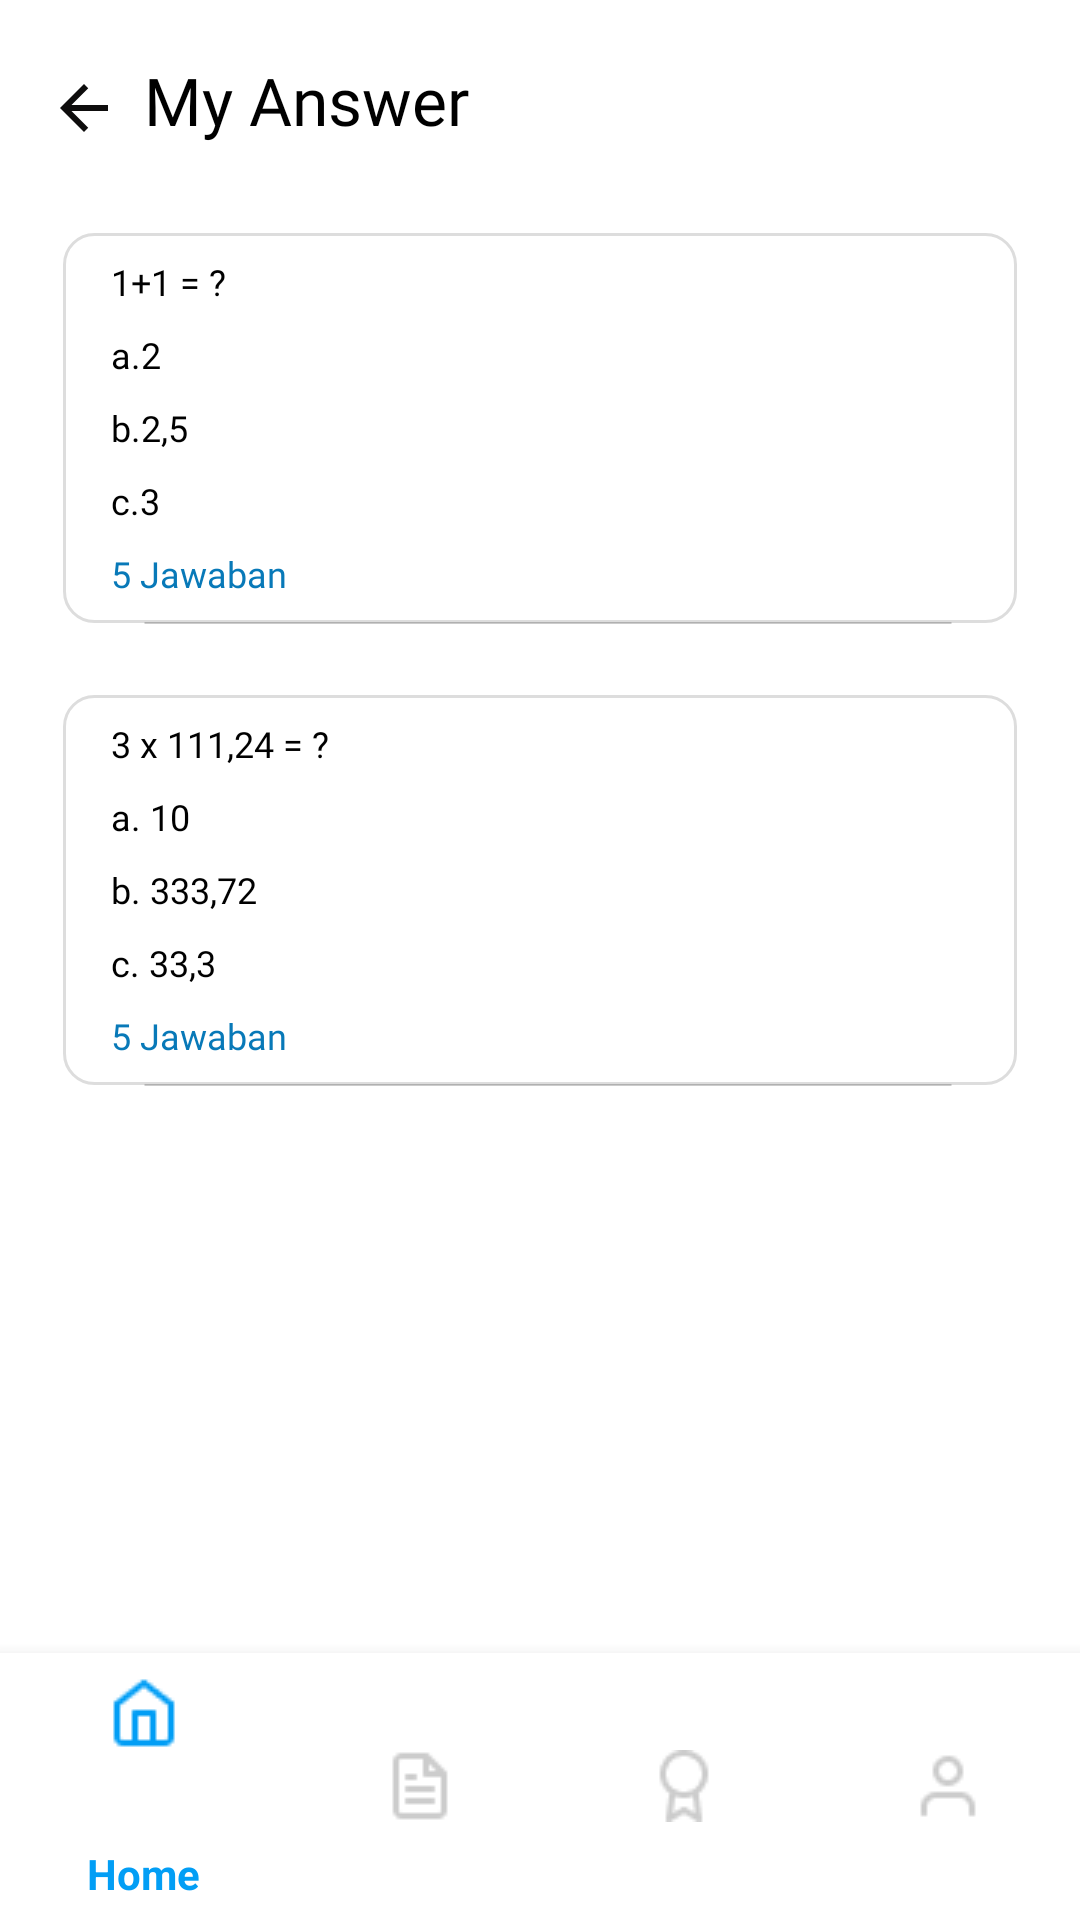

Icon bounding boxes for this 1080 × 1920 phone screenshot, format (x1, y1, x2, y2):
arrow back: (60, 84, 108, 132)
